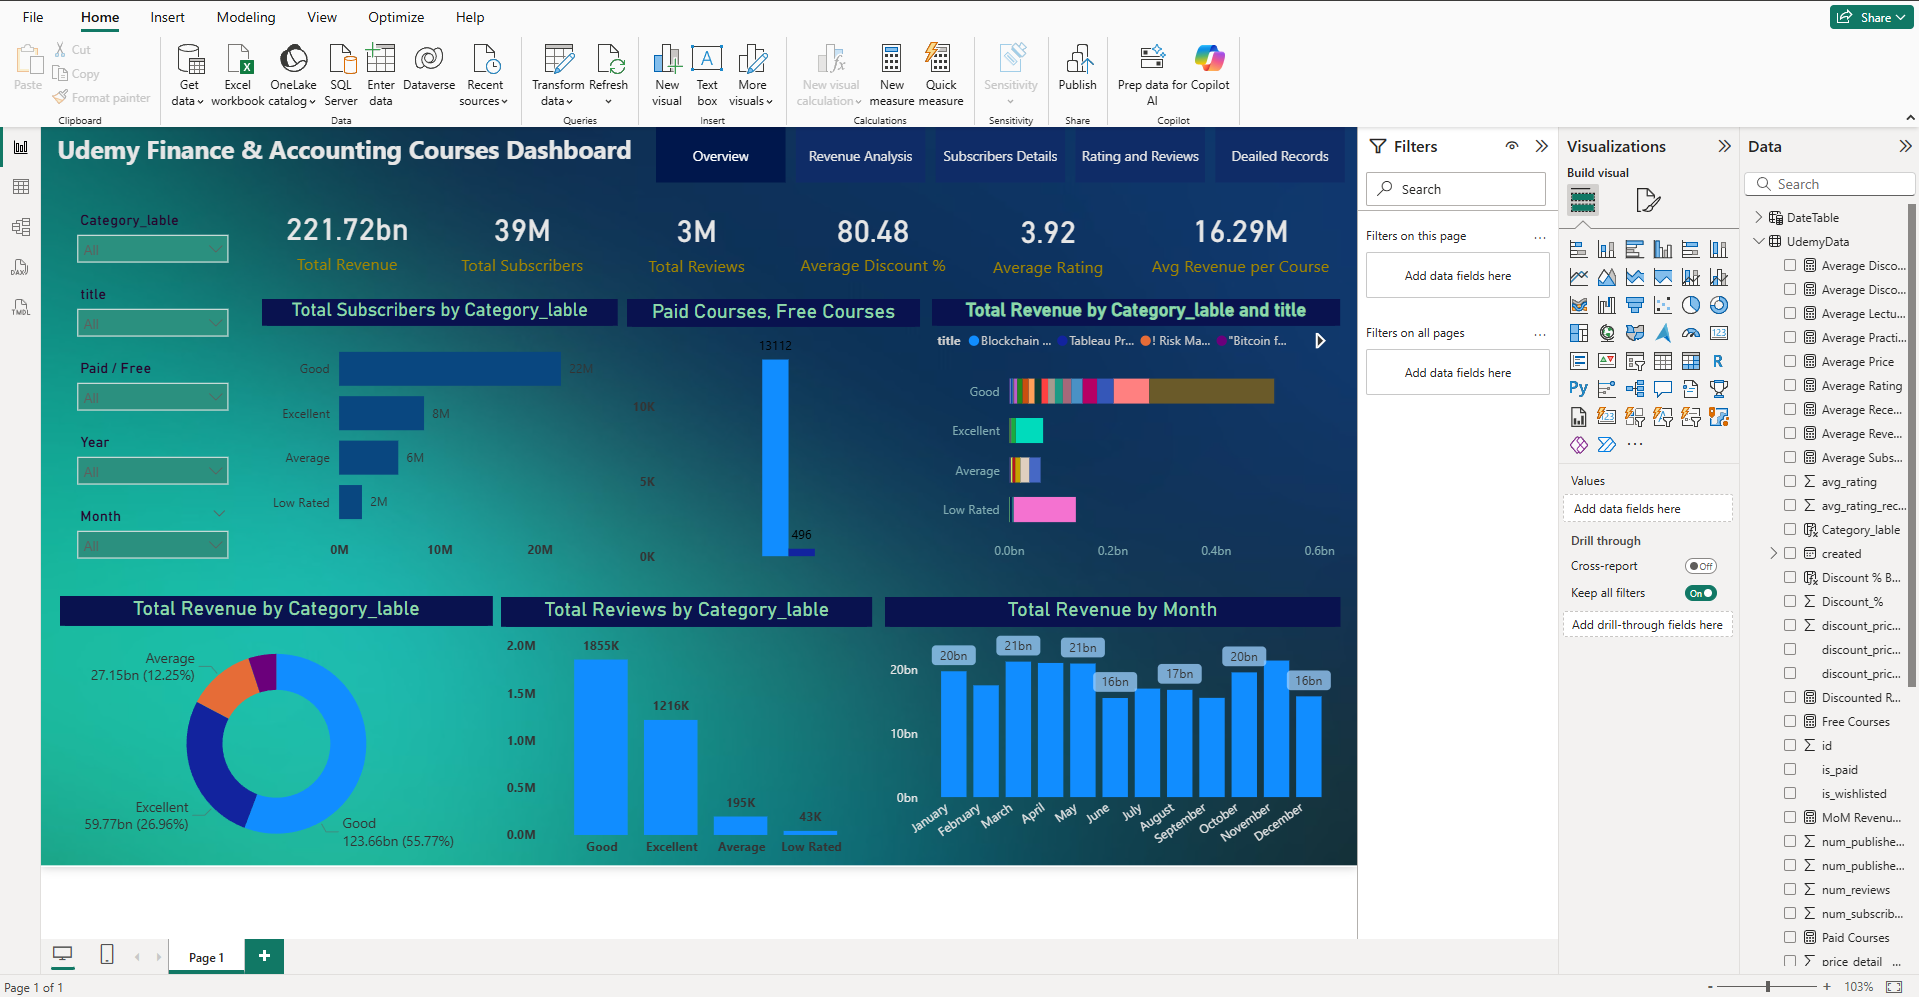

This screenshot's page, from the dashboard's own definition file:
{"tool":"powerbi","page":{"name":"Page 1","canvas":[1280,720],"ordinal":0},"visuals":[{"type":"textbox","box":[10.7,0,570.2,51],"z":0},{"type":"card","fields":{"Values":["UdemyData.Total Revenue"]},"box":[217.6,67.8,160.1,80.1],"z":0,"group":"g1"},{"type":"card","fields":{"Values":["UdemyData.Total Subscribers"]},"box":[387.9,68.1,160.1,81.2],"z":1000,"group":"g1"},{"type":"card","fields":{"Values":["UdemyData.Total Reviews"]},"box":[558.2,68.1,159,83.5],"z":2000,"group":"g1"},{"type":"card","fields":{"Values":["UdemyData.Average Discount %"]},"box":[729.6,68.1,157.9,82.3],"z":3000,"group":"g1"},{"type":"card","fields":{"Values":["UdemyData.Average Rating"]},"box":[899.9,68.1,157.9,84.6],"z":4000,"group":"g1"},{"type":"group","id":"g1","title":"Overview","box":[18,67.8,1245.1,651.9],"z":5000},{"type":"card","fields":{"Values":["UdemyData.Average Revenue per Course"]},"box":[1070.2,68.1,191.7,83.5],"z":5000,"group":"g1"},{"type":"bookmarkNavigator","box":[597.9,0,670.8,54.4],"z":6000},{"type":"clusteredColumnChart","title":"Paid Courses, Free Courses ","fields":{"Y":["UdemyData.Paid Courses","UdemyData.Free Courses"]},"box":[569.6,167,285.1,264.1],"z":6000,"group":"g1"},{"type":"barChart","title":"Total Revenue by Category_lable and title","fields":{"Category":["UdemyData.Category_lable","UdemyData.title"],"Y":["UdemyData.Total Revenue"],"Series":["UdemyData.title"]},"box":[866.3,167,396.8,263],"z":7000,"group":"g1"},{"type":"slicer","fields":{"Values":["UdemyData.Category_lable"]},"box":[24.4,76.8,167.3,59.3],"z":8000,"group":"g1"},{"type":"slicer","fields":{"Values":["UdemyData.title"]},"box":[24.4,148.8,167.3,59.3],"z":9000,"group":"g1"},{"type":"slicer","fields":{"Values":["UdemyData.published_time.Variation.Date Hierarchy.Year"]},"box":[24.4,292.7,167.3,59.3],"z":10000,"group":"g1"},{"type":"slicer","fields":{"Values":["UdemyData.published_time.Variation.Date Hierarchy.Month"]},"box":[24.4,364.7,167.3,69.1],"z":11000,"group":"g1"},{"type":"columnChart","fields":{"Y":["UdemyData.Total Revenue"],"Category":["UdemyData.published_time.Variation.Date Hierarchy.Month"]},"box":[820.4,457.1,442.6,262.6],"z":12000,"group":"g1"},{"type":"slicer","fields":{"Values":["UdemyData.is_paid"]},"box":[24.4,220.7,167.3,59.3],"z":13000,"group":"g1"},{"type":"barChart","title":"Total Subscribers by Category_lable","fields":{"Category":["UdemyData.Category_lable"],"Y":["UdemyData.Total Subscribers"]},"box":[214.7,167,345.6,261.8],"z":14000,"group":"g1"},{"type":"donutChart","title":"Total Revenue by Category_lable","fields":{"Category":["UdemyData.Category_lable"],"Y":["UdemyData.Total Revenue"]},"box":[18,455.7,420.9,263.5],"z":15000,"group":"g1"},{"type":"columnChart","title":"Total Reviews by Category_lable","fields":{"Category":["UdemyData.Category_lable"],"Y":["UdemyData.Total Reviews"]},"box":[447,456.7,361.4,261.5],"z":16000,"group":"g1"}]}

Visuals, with their boxes on the page's 1280x720 design canvas (x1, y1, x2, y2). These are canvas units, not pixel positions in the 1919x997 screenshot, which may show the page scaled, cropped or inside an application window:
textbox: 11/0/581/51
card - UdemyData.Total Revenue: 218/68/378/148
card - UdemyData.Total Subscribers: 388/68/548/149
card - UdemyData.Total Reviews: 558/68/717/152
card - UdemyData.Average Discount %: 730/68/888/150
card - UdemyData.Average Rating: 900/68/1058/153
"Overview" group: 18/68/1263/720
card - UdemyData.Average Revenue per Course: 1070/68/1262/152
bookmarkNavigator: 598/0/1269/54
"Paid Courses, Free Courses " clusteredColumnChart: 570/167/855/431
"Total Revenue by Category_lable and title" barChart: 866/167/1263/430
slicer - UdemyData.Category_lable: 24/77/192/136
slicer - UdemyData.title: 24/149/192/208
slicer - UdemyData.published_time.Variation.Date Hierarchy.Year: 24/293/192/352
slicer - UdemyData.published_time.Variation.Date Hierarchy.Month: 24/365/192/434
columnChart - UdemyData.Total Revenue x UdemyData.published_time.Variation.Date Hierarchy.Month: 820/457/1263/720
slicer - UdemyData.is_paid: 24/221/192/280
"Total Subscribers by Category_lable" barChart: 215/167/560/429
"Total Revenue by Category_lable" donutChart: 18/456/439/719
"Total Reviews by Category_lable" columnChart: 447/457/808/718
